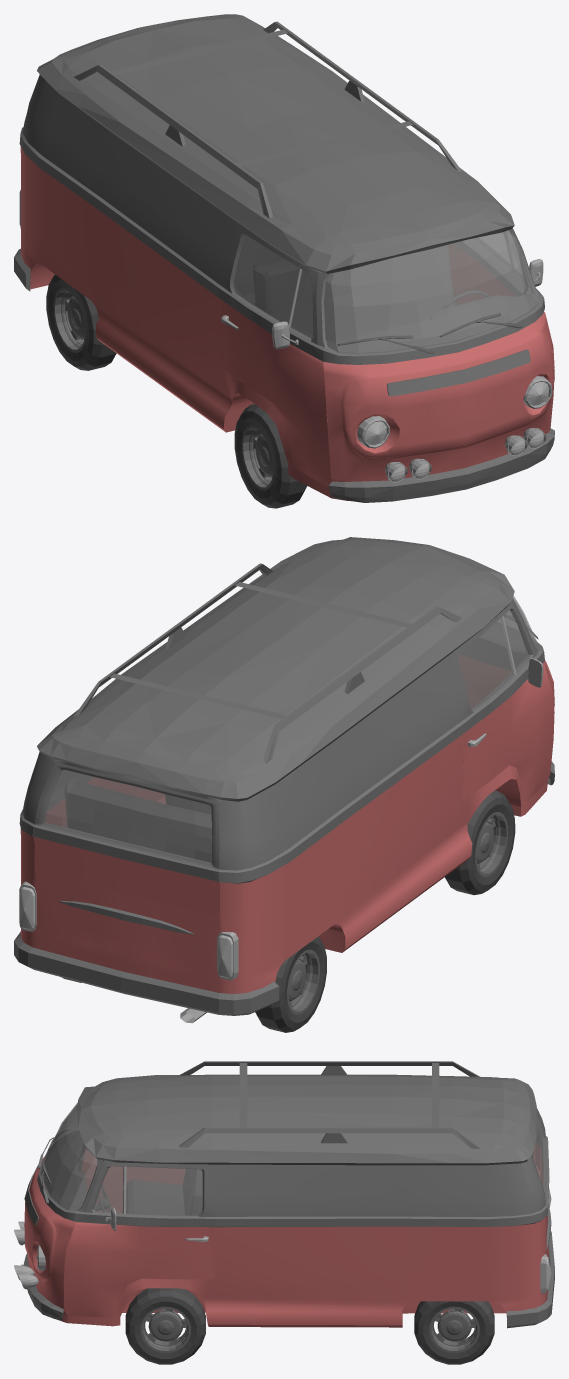
Rendered from Kombi 1.fbx.
The picture shows the model from 3 angles, top to bottom: view 1: azimuth 30°, elevation 25°; view 2: azimuth 150°, elevation 25°; view 3: azimuth 270°, elevation 25°; orthographic projection. The views are drawn at different scales.
Visible parts, largest first — view 1: body, roof, glass, steels, seat, wheels, dashboard, lights_steel, lights_txt, mirrors, wipers; view 2: body, roof, glass, steels, wheels, seat, dashboard, lights_txt, mirrors, lights_steel; view 3: body, roof, wheels, glass, steels, dashboard, seat, lights_steel, mirrors.
Part boxes in pixels (box(x1,y1,x2,y2)): body: box(19, 74, 554, 501); roof: box(37, 14, 514, 273); glass: box(233, 230, 538, 353); steels: box(14, 21, 554, 502); seat: box(236, 235, 454, 342); wheels: box(46, 274, 307, 508); dashboard: box(327, 290, 538, 353); lights_steel: box(19, 189, 552, 482); lights_txt: box(365, 381, 548, 481); mirrors: box(221, 232, 543, 349); wipers: box(337, 313, 522, 353); body: box(19, 598, 554, 993); roof: box(37, 537, 514, 801); glass: box(44, 595, 538, 863); steels: box(14, 563, 554, 1015); wheels: box(62, 790, 515, 1032); seat: box(65, 782, 211, 862); dashboard: box(460, 623, 538, 670); lights_txt: box(19, 887, 233, 978); mirrors: box(468, 616, 543, 747); lights_steel: box(19, 881, 238, 980); body: box(24, 1108, 549, 1327); roof: box(76, 1074, 536, 1165); wheels: box(125, 1288, 494, 1364); glass: box(40, 1103, 545, 1215); steels: box(23, 1061, 554, 1328); dashboard: box(40, 1133, 111, 1212); seat: box(126, 1169, 202, 1215); lights_steel: box(14, 1221, 546, 1293); mirrors: box(105, 1166, 208, 1242).
Bounding box in the file's own units: 197 × 208 × 446.
